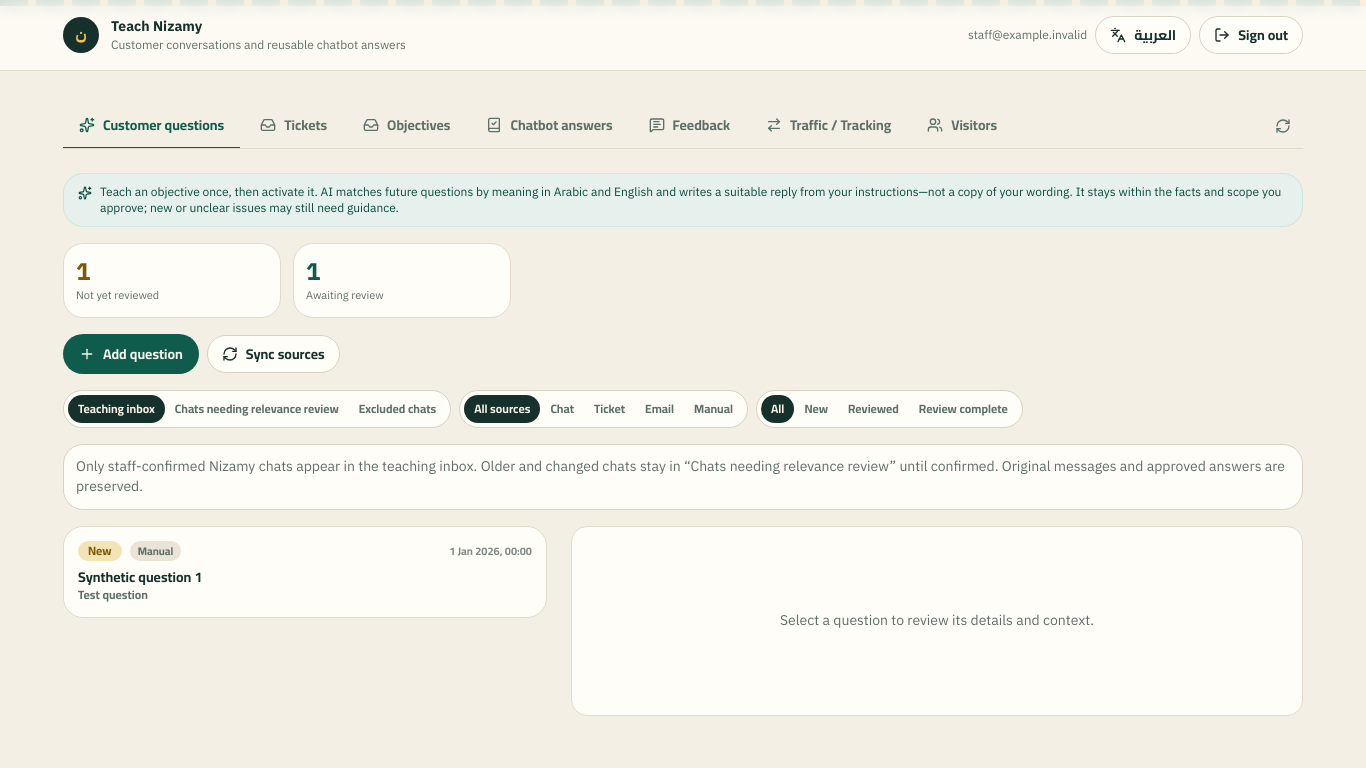
Test: inbox sync in en › keeps questions visible after a later local refresh failure and clears the warning on retry
The width and height of the screenshot is (1366, 768).
Later steps or results of the test are not shown.
expect the button with test id "card-inbox-1" is shown: met, box [63,526,547,618]
What coordinates should you click on to do the following:
click the button with test id "button-sync"
I would click on:
 (273, 354)
Its box is [207,334,340,372].
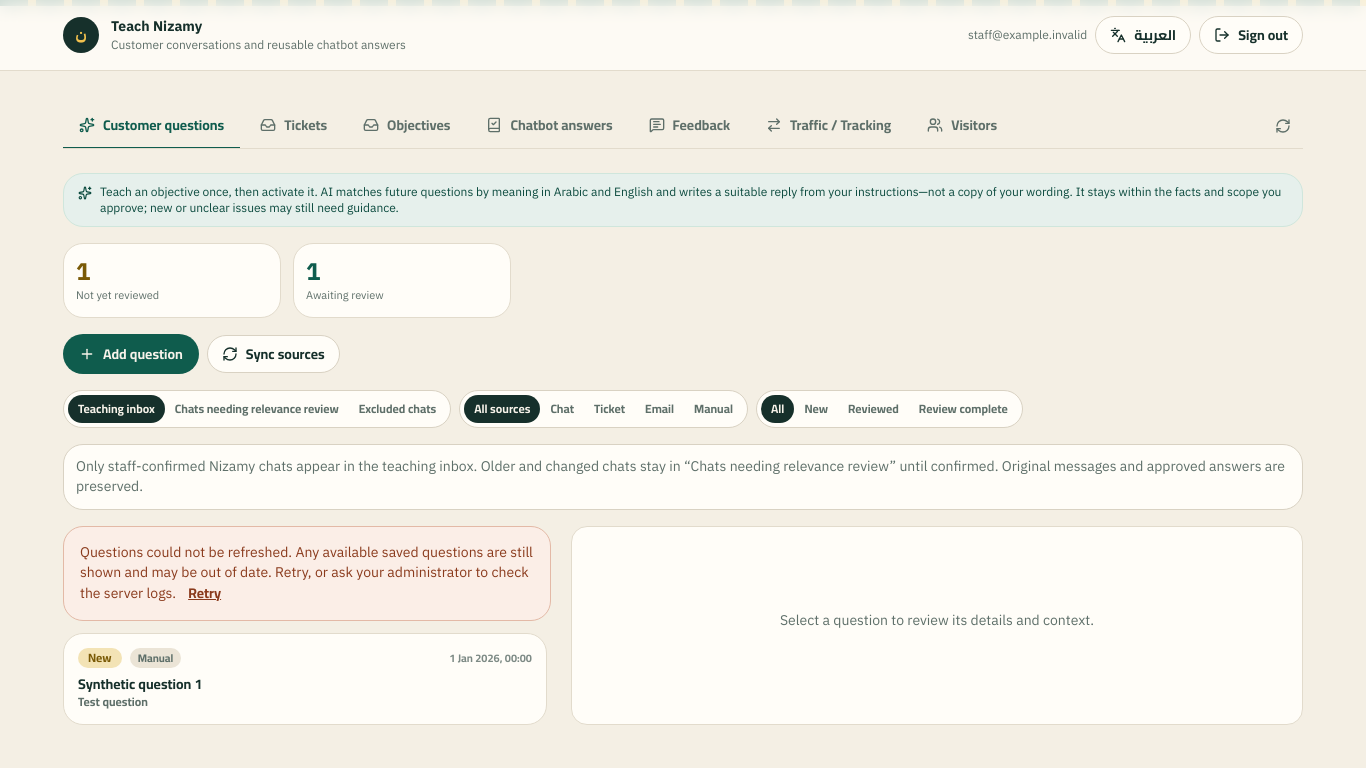
expect the button with test id "card-inbox-1" is shown: met, box [63,632,547,725]
expect the message shows "Questions could not be refreshed.": met, box [80,542,533,604]
What coordinates should you click on to do the following:
click the button with test id "button-inbox-retry"
I would click on:
 (205, 592)
Its box is [188,582,221,602].
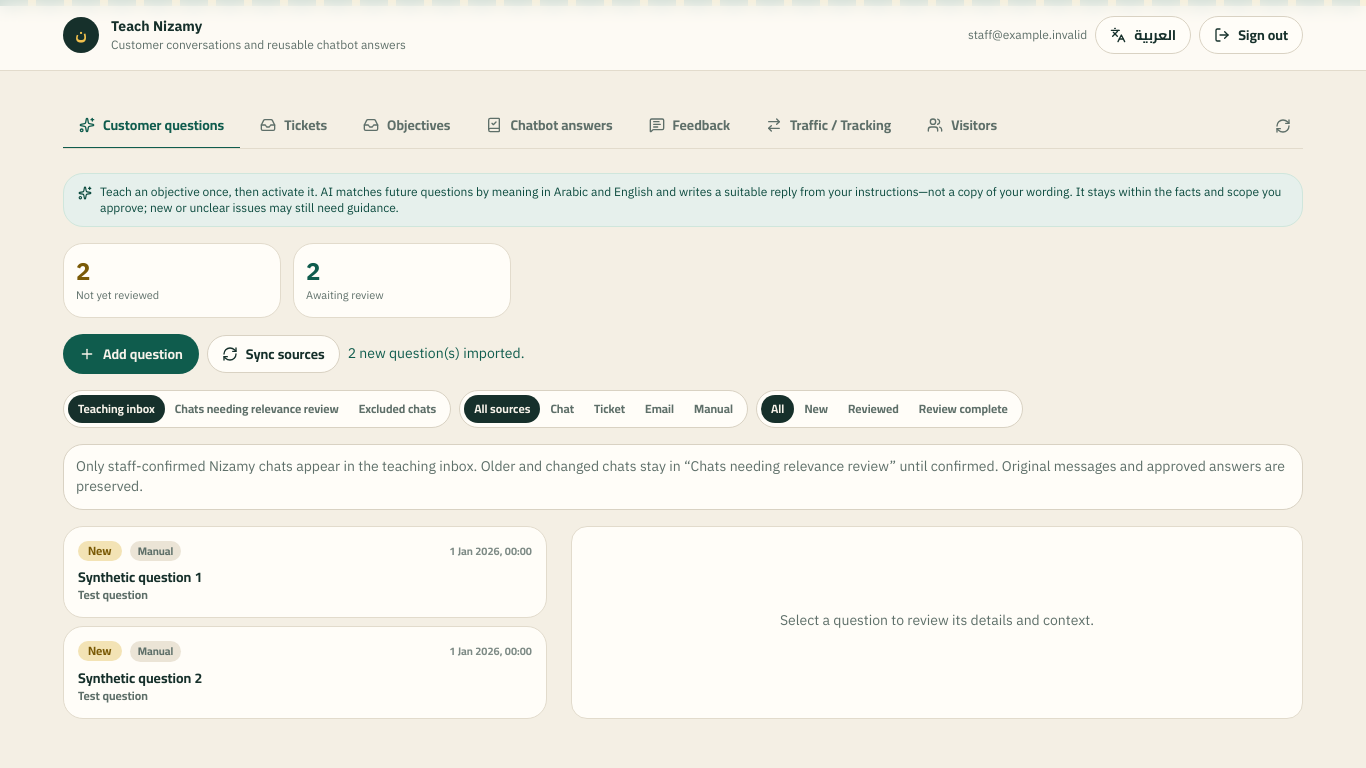
expect the button with test id "card-inbox-2" is shown: met, box [63,626,547,718]
